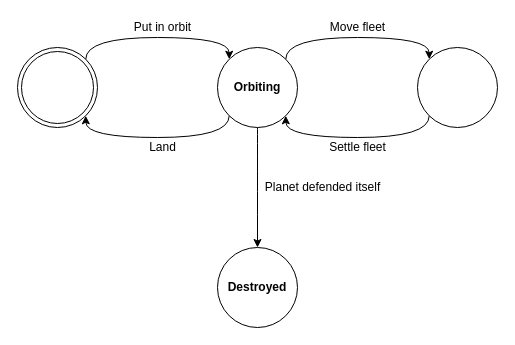
Image size: 515x345. Some labels were removed from this diagram. The shapes that lost their labels are listed below. From the top down, each one's centre as x and y in pixels, then its label:
At point (57, 87): "Preparing".
At point (457, 87): "Travelling".
